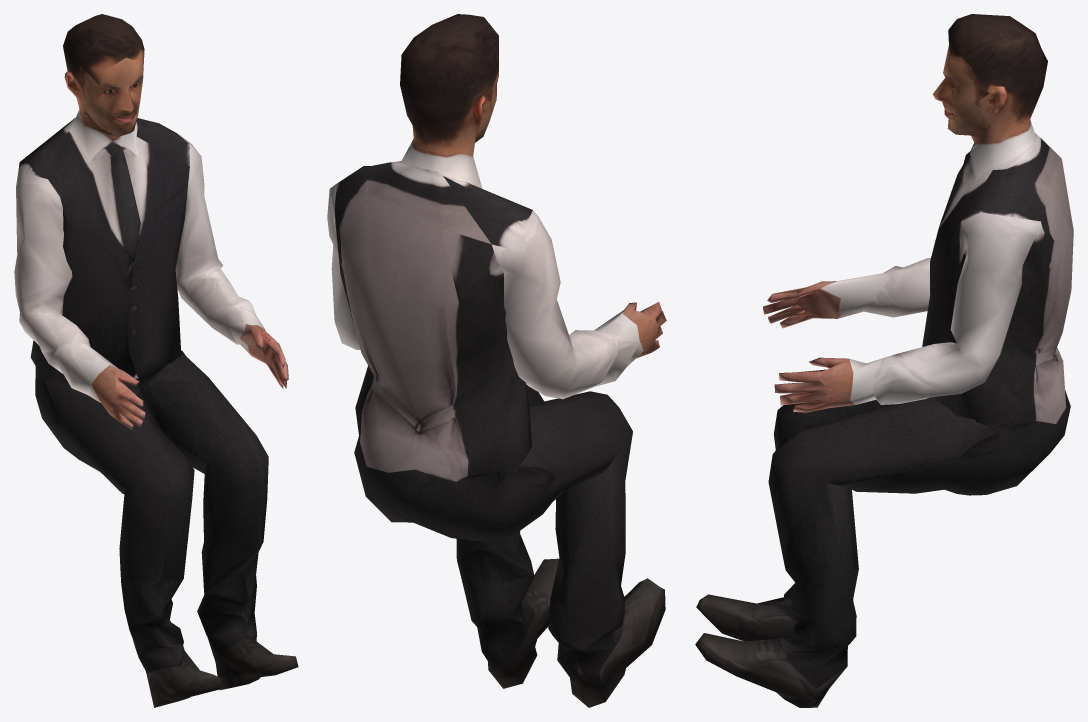
Rendered from EricNear.fbx.
3 renders of one model, left to right at view 1: azimuth 30°, elevation 25°; view 2: azimuth 150°, elevation 25°; view 3: azimuth 270°, elevation 25°, orthographic. The views are drawn at different scales.
Parts seen in each view (by area): view 1: rp_eric_rigged_001_geo.001; view 2: rp_eric_rigged_001_geo.001; view 3: rp_eric_rigged_001_geo.001.
Part boxes in pixels (x1,y1,x2,y2): rp_eric_rigged_001_geo.001: [14, 14, 298, 707]; rp_eric_rigged_001_geo.001: [327, 14, 666, 707]; rp_eric_rigged_001_geo.001: [695, 14, 1073, 707].
Size of the model in its own units: 49.93 by 149 by 76.54.
1 material, 1 textured.
